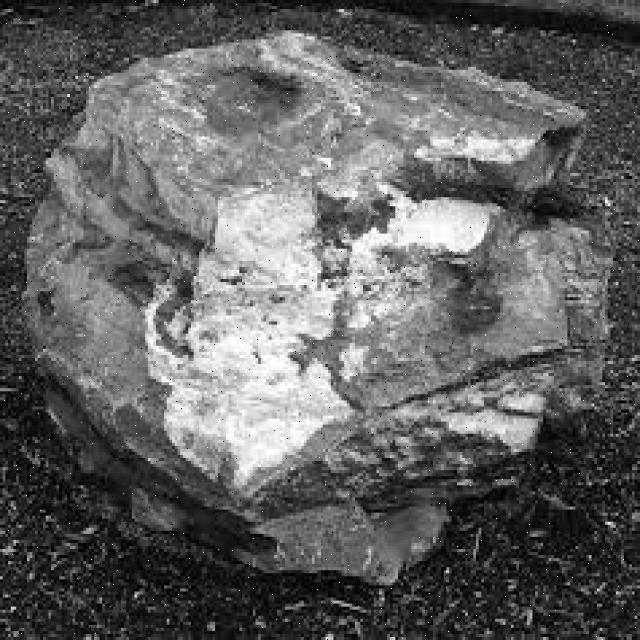Metamorphic: (27, 31, 608, 592)
